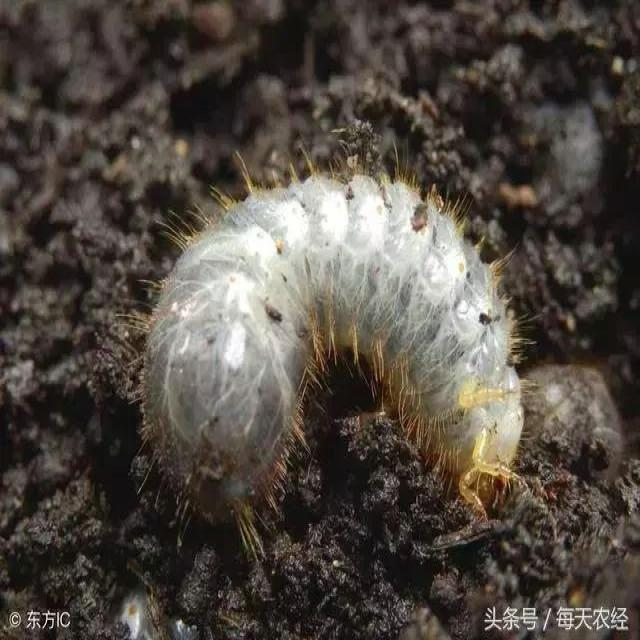grub: (133, 153, 531, 533)
